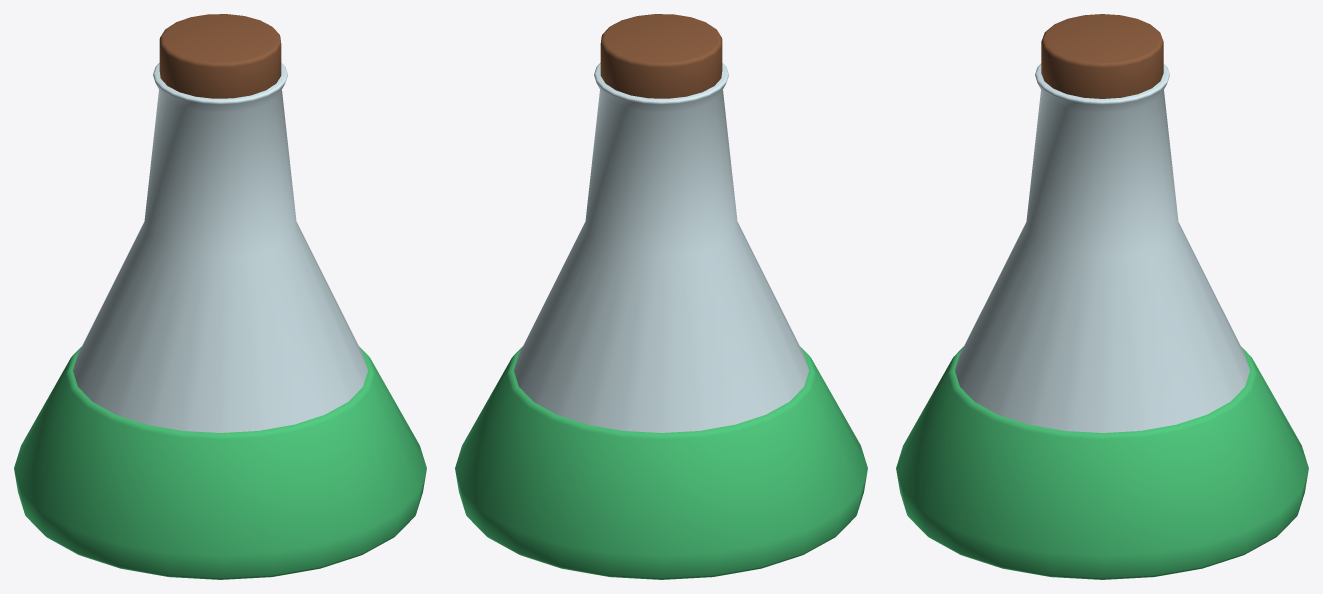
File: frasco.glb
The picture shows the model from 3 angles, left to right: view 1: azimuth 30°, elevation 25°; view 2: azimuth 150°, elevation 25°; view 3: azimuth 270°, elevation 25°; orthographic projection.
Visible parts, largest first — view 1: frasco; view 2: frasco; view 3: frasco.
Boxes of the visible parts, <box> form: frasco: <box>14,14,426,579</box>; frasco: <box>455,14,867,579</box>; frasco: <box>896,14,1308,579</box>.
Size of the model in its own units: 1.08 by 1.34 by 1.08.
